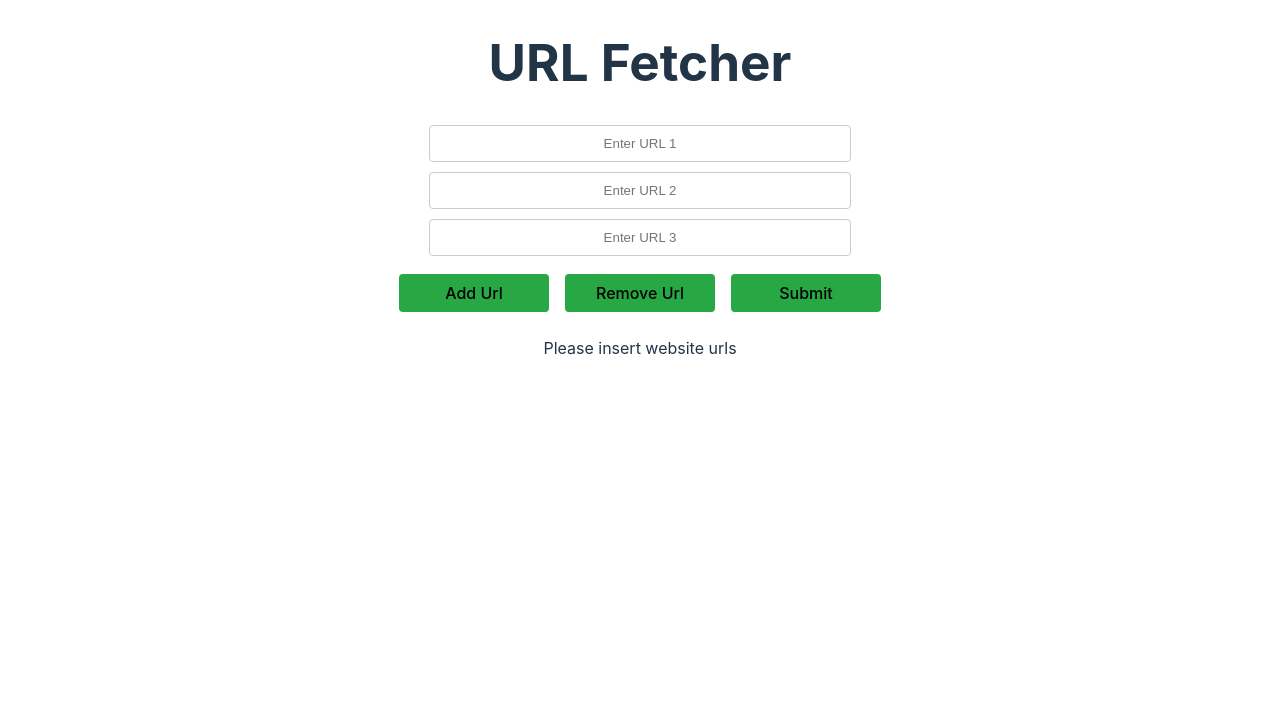
Test: App Component › Return corrected metadata
# Simulate form submission
Type "http://example.com" into the field with placeholder "Enter URL 1".
click(640, 143); type("http://example.com")  # box [429, 125, 851, 162]
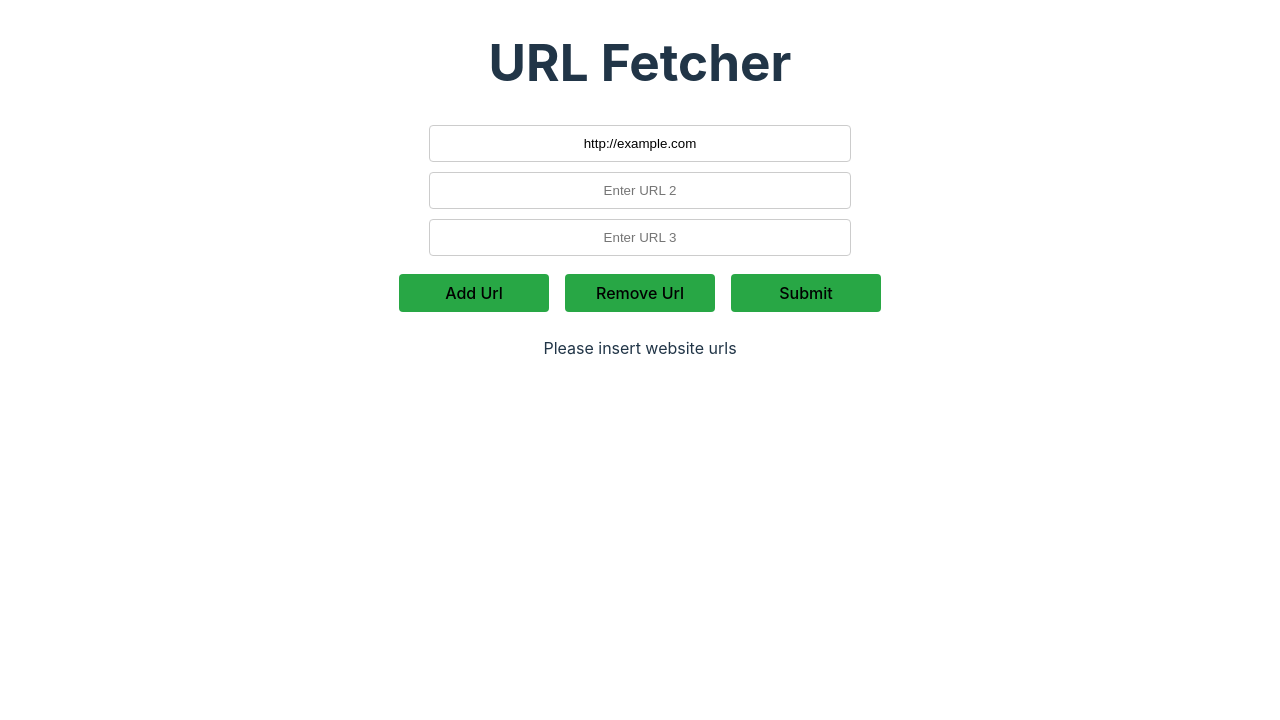
Type "http://example.org" into the field with placeholder "Enter URL 2".
click(640, 190); type("http://example.org")  # box [429, 172, 851, 209]
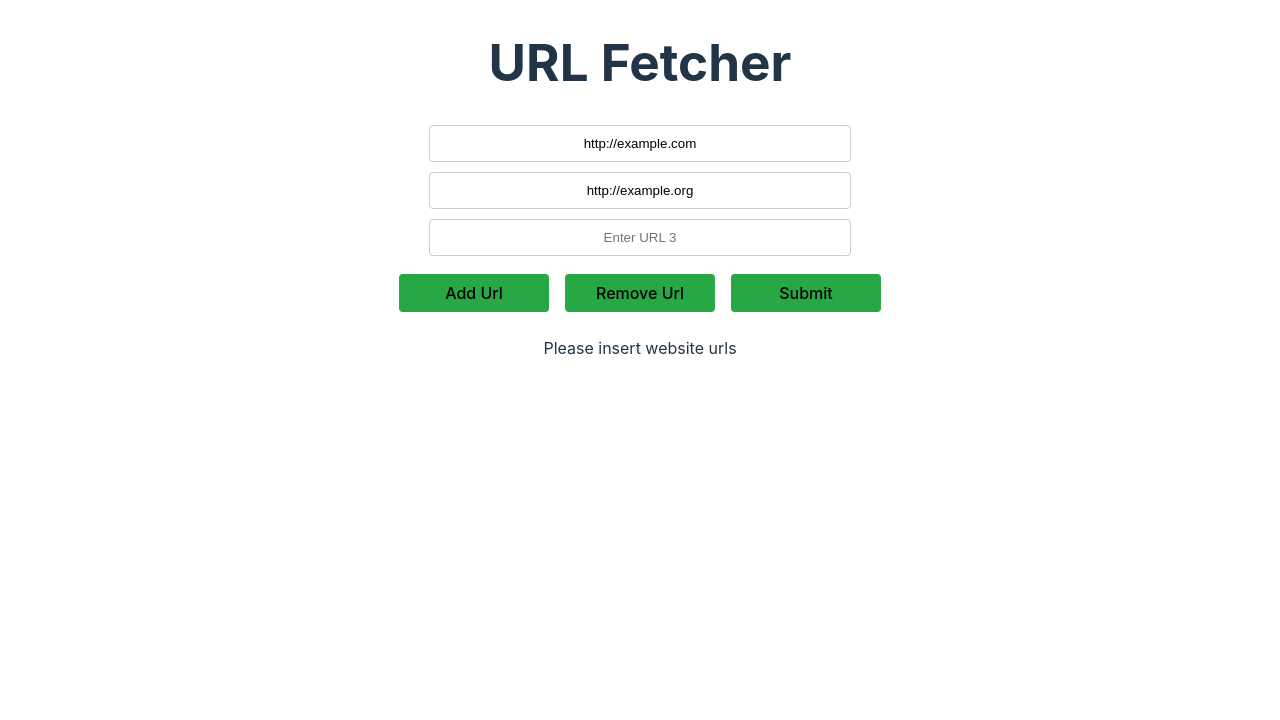
Type "http://example.net" into the field with placeholder "Enter URL 3".
click(640, 237); type("http://example.net")  # box [429, 219, 851, 256]
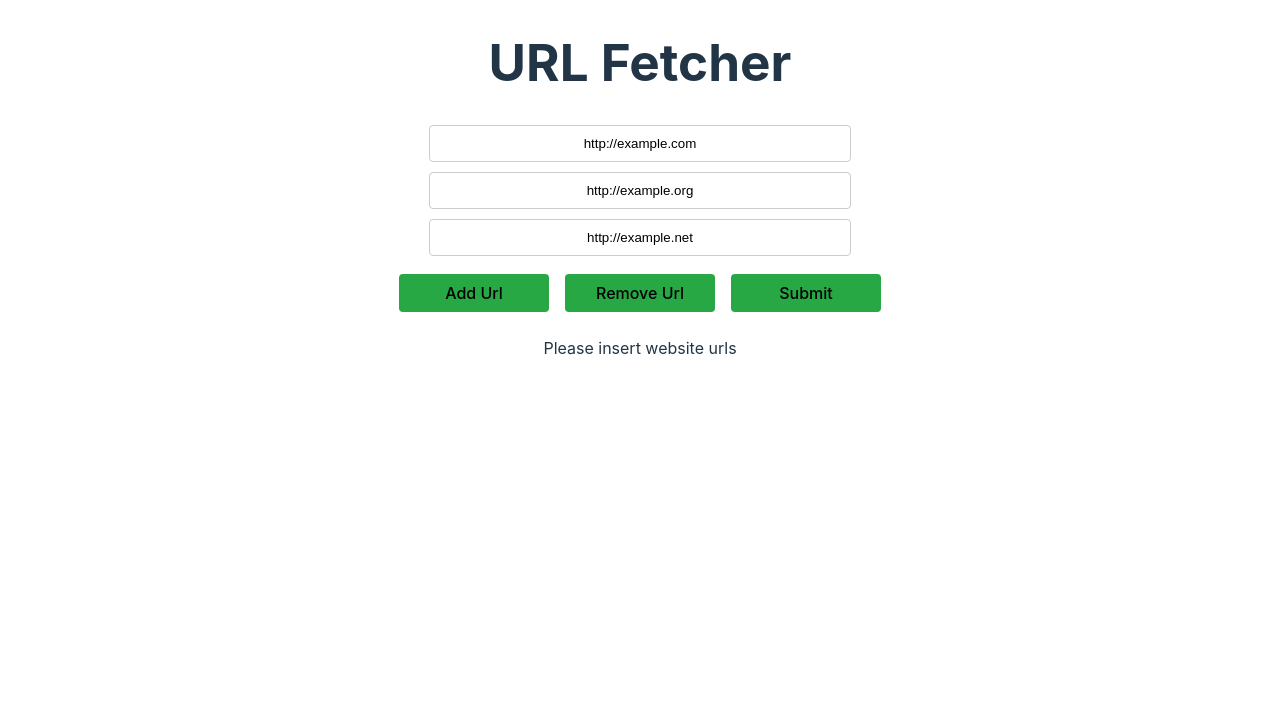
Click the button "Submit".
click(806, 293)  # box [731, 274, 881, 312]
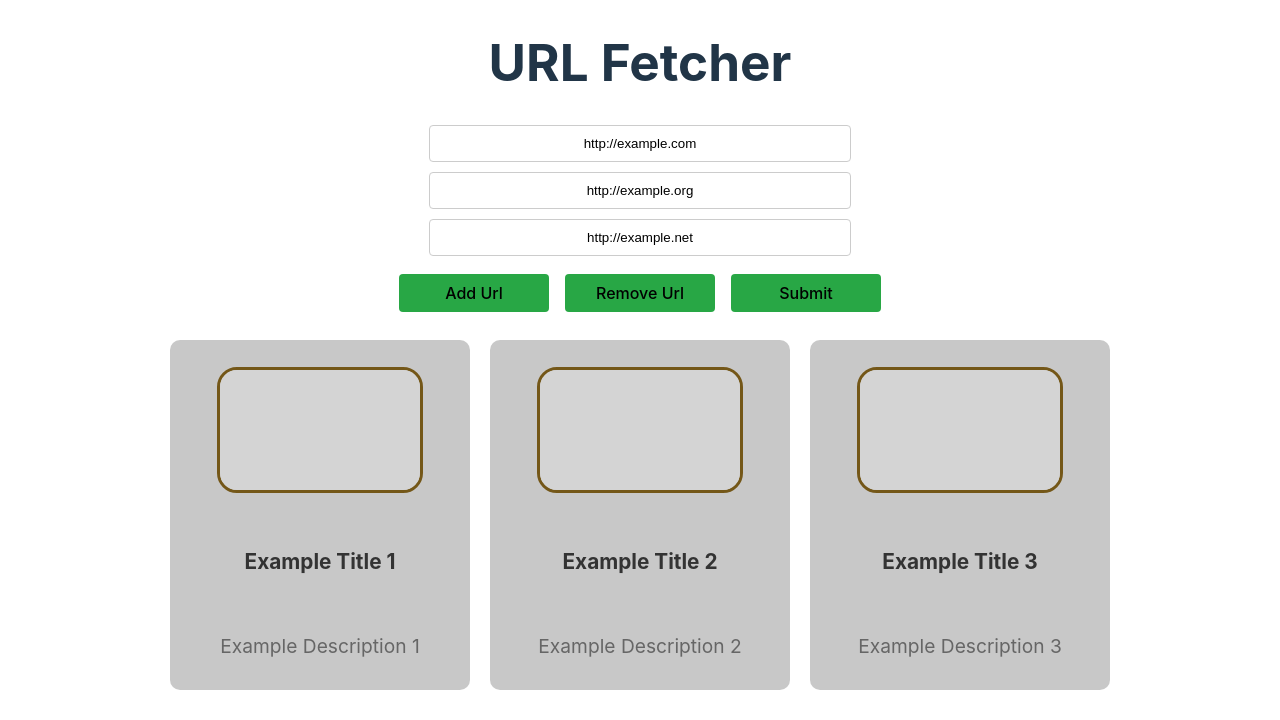
Expected: the heading "Example Title 1" is shown, [245, 546, 396, 577]
Expected: the text "Example Description 1" is shown, [220, 632, 420, 661]
Expected: the heading "Example Title 2" is shown, [562, 546, 718, 577]
